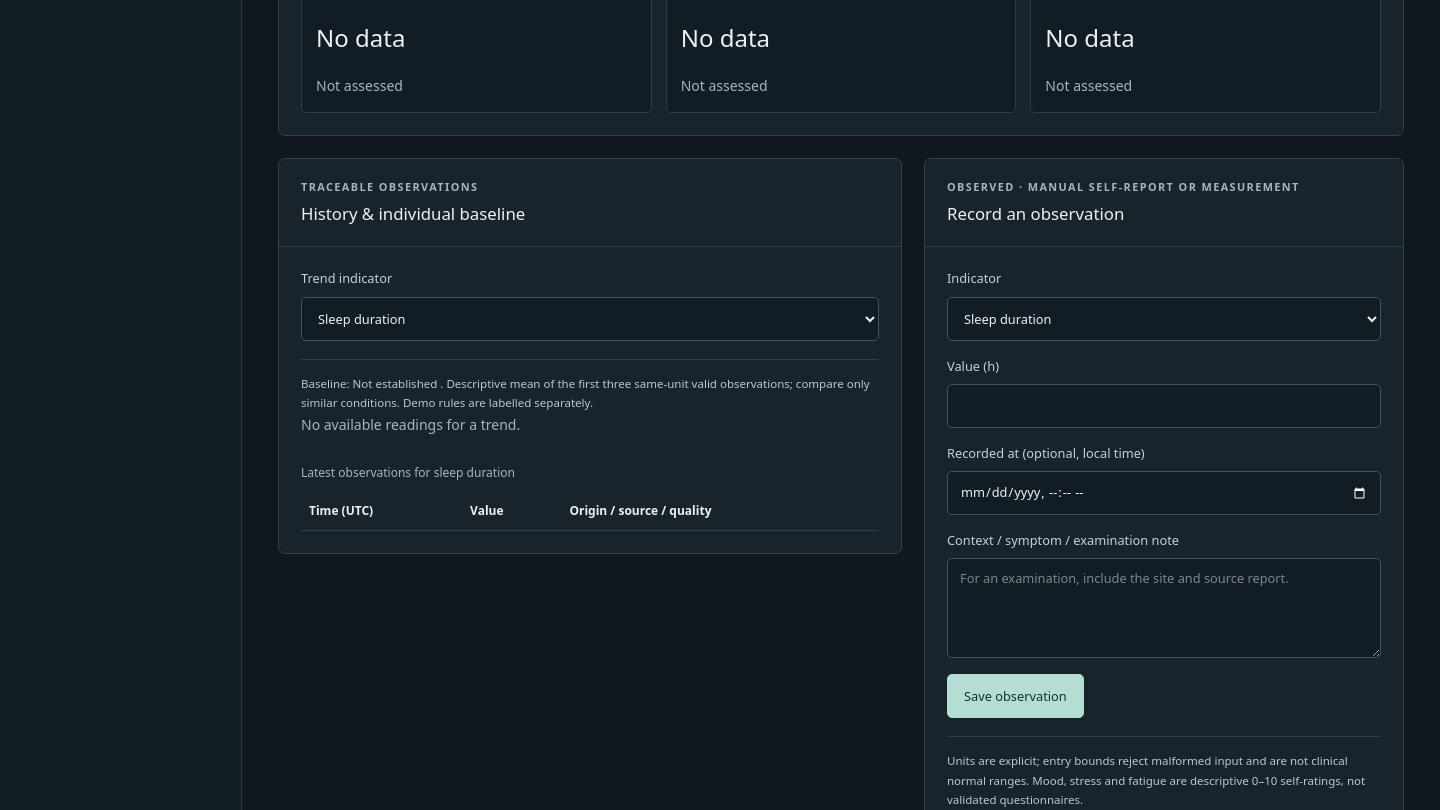
Test: astronaut-first integrated application › saves an observed manual measurement and restores it after remount
This screenshot has width=1440, height=810.
(page scrolled)
In the number field labelled "Value (h)": (1164, 406) [947,384,1381,428], type "7.5"
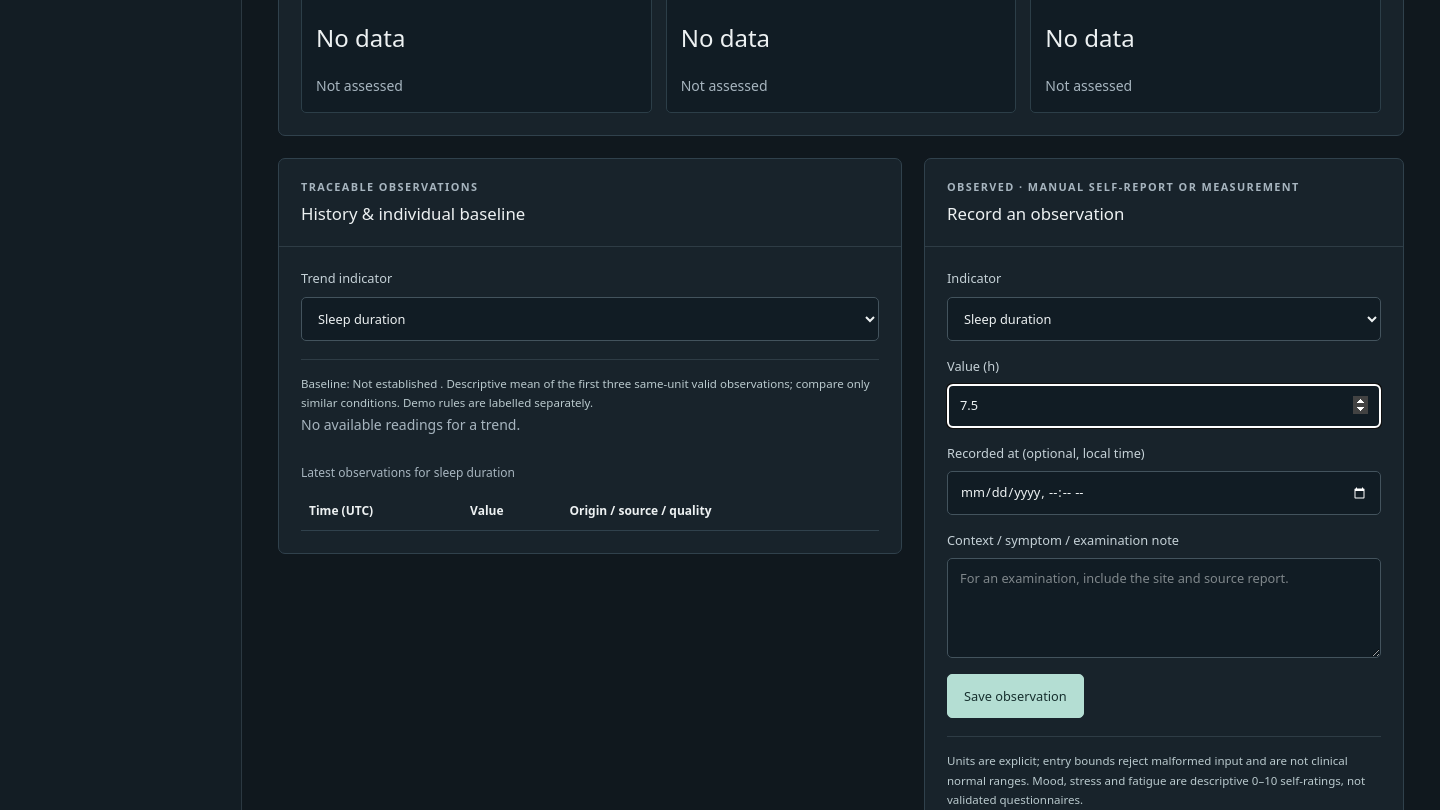
Click the button "Save observation": (1015, 696) [947,674,1084,718]
(page scrolled)
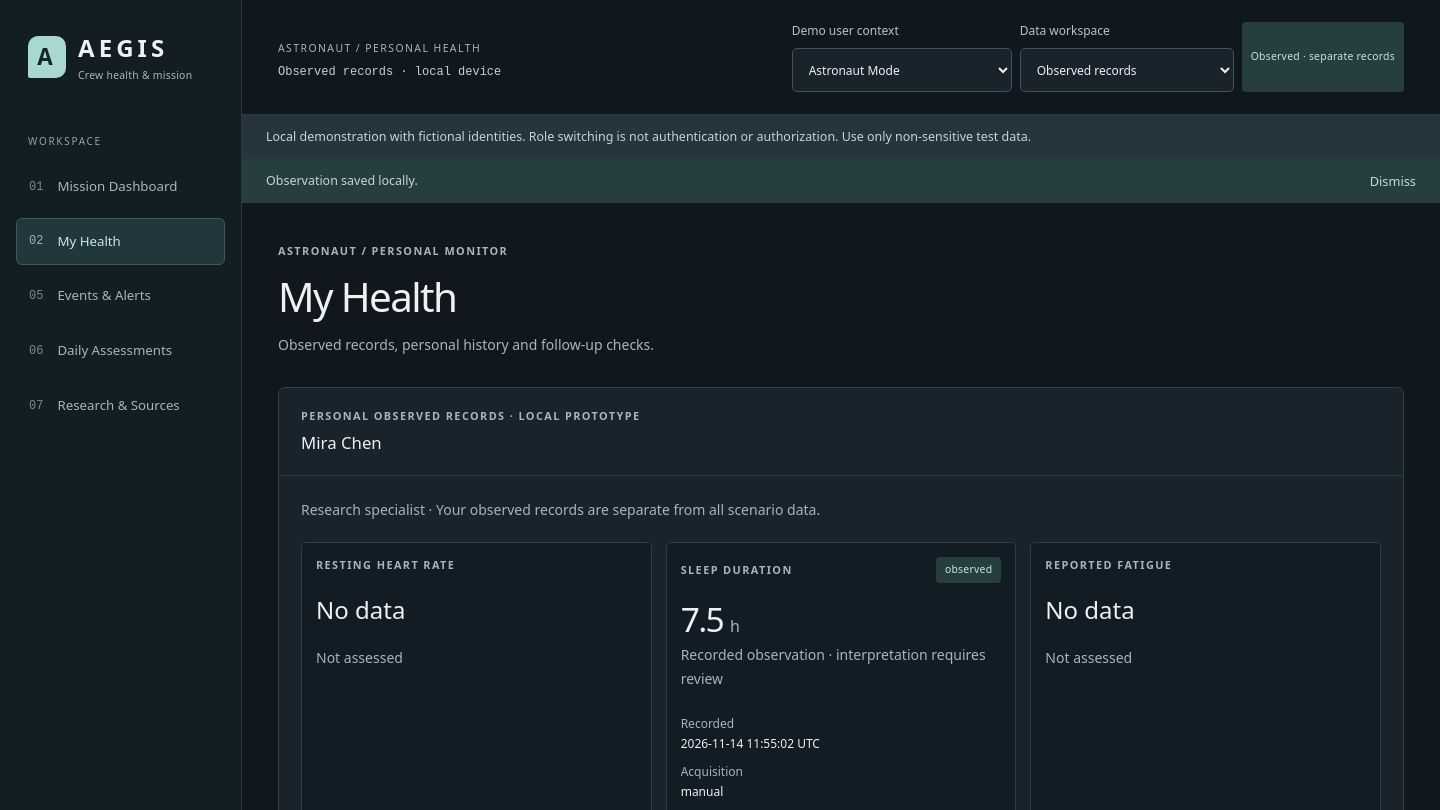
Expected: the message shows "Observation saved", [266,172,418,189]
